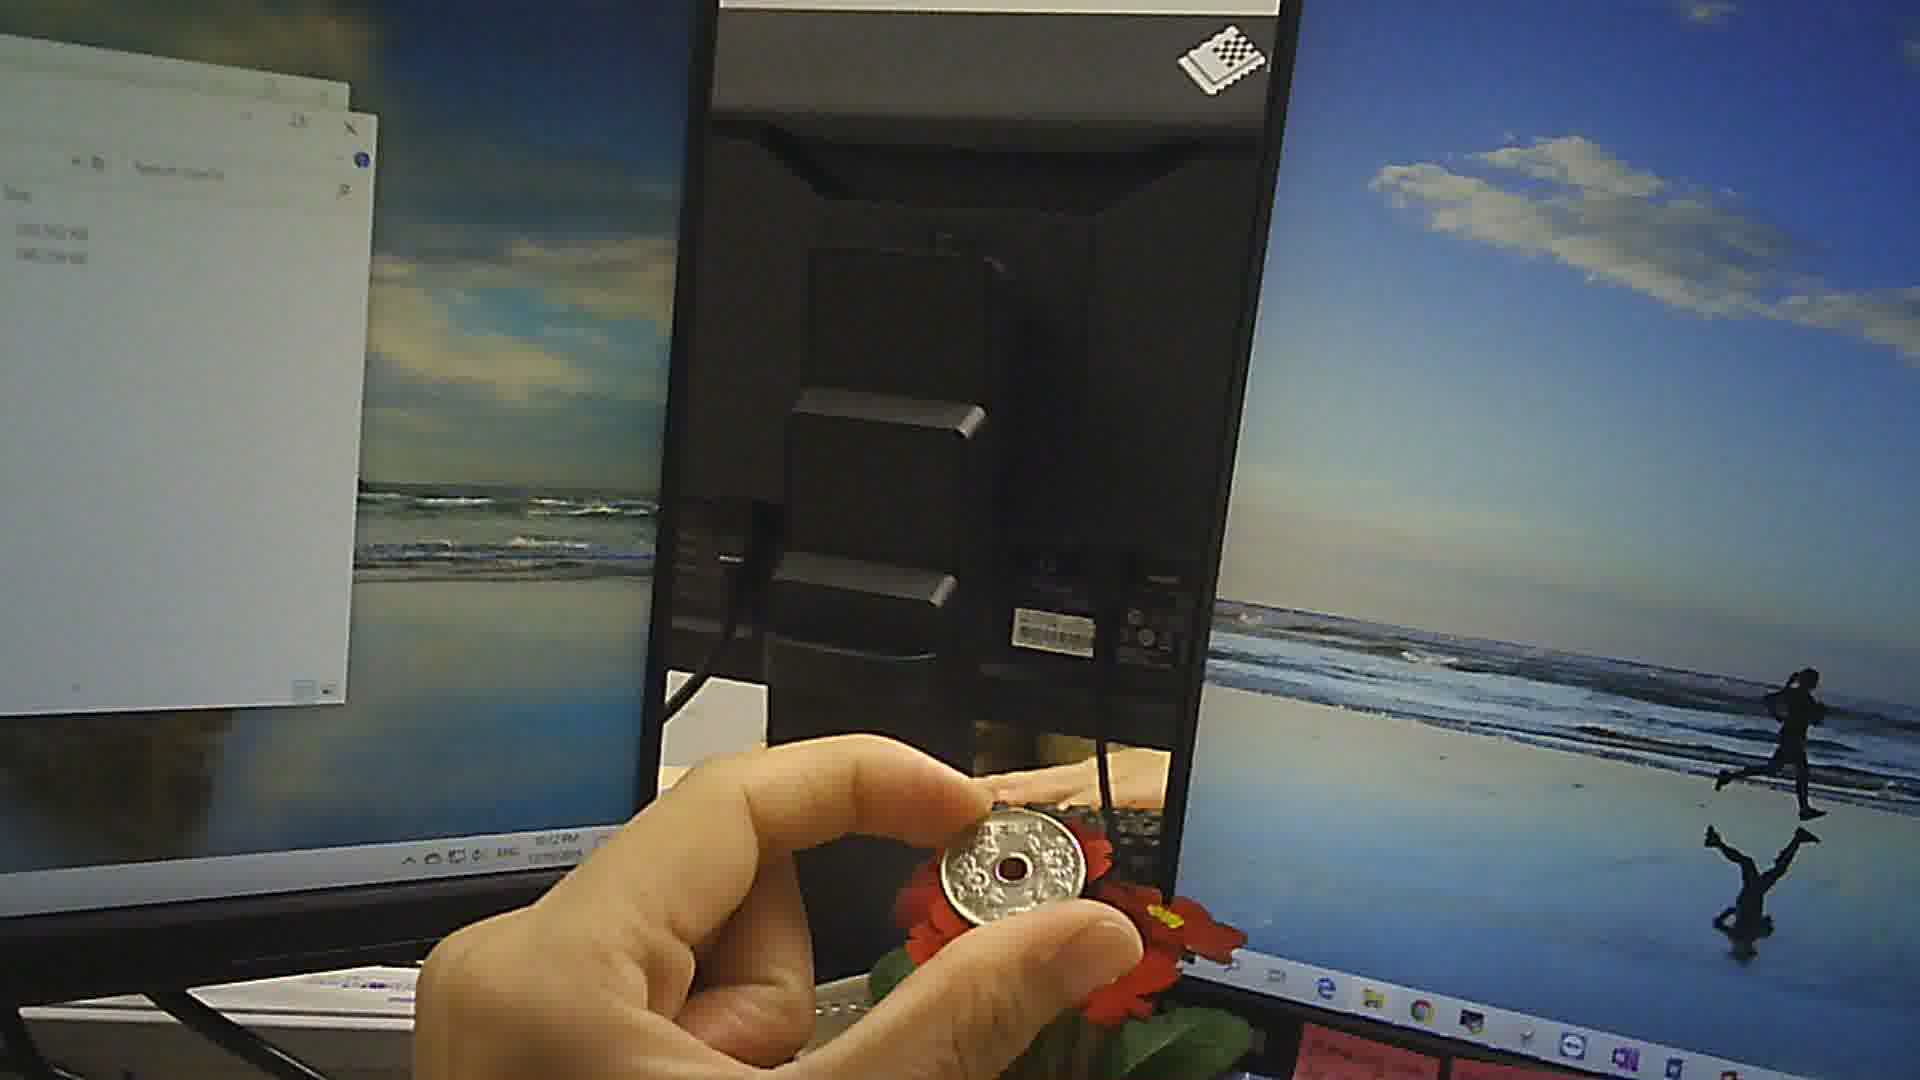50 Yen: (939, 794, 1088, 939)
